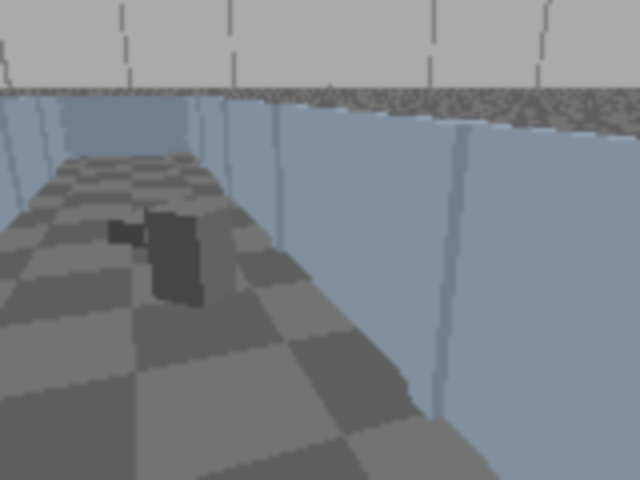obstacle: (144, 198, 237, 310)
